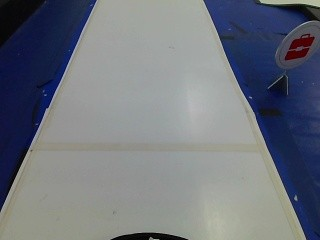company: (274, 20, 318, 71)
